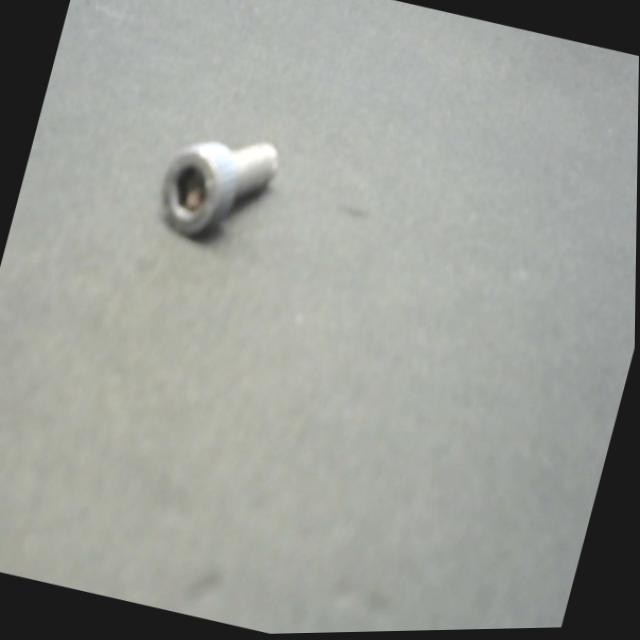SocketHeadCapScrew: (137, 110, 296, 269)
